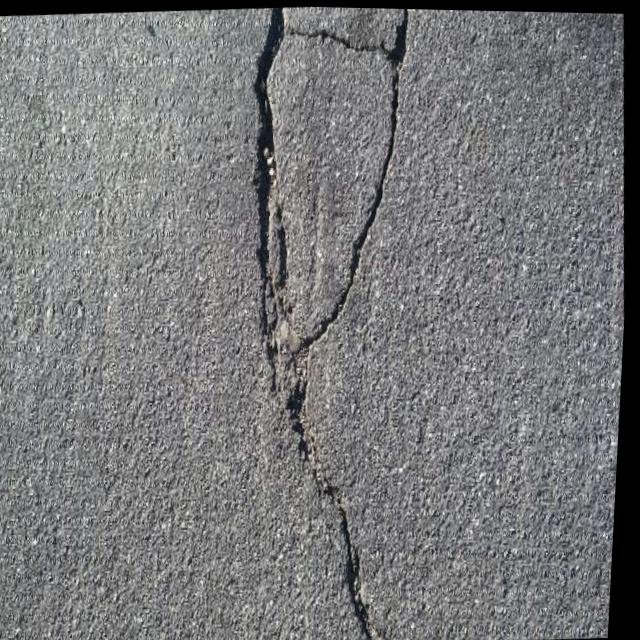Crack: (221, 4, 447, 640)
